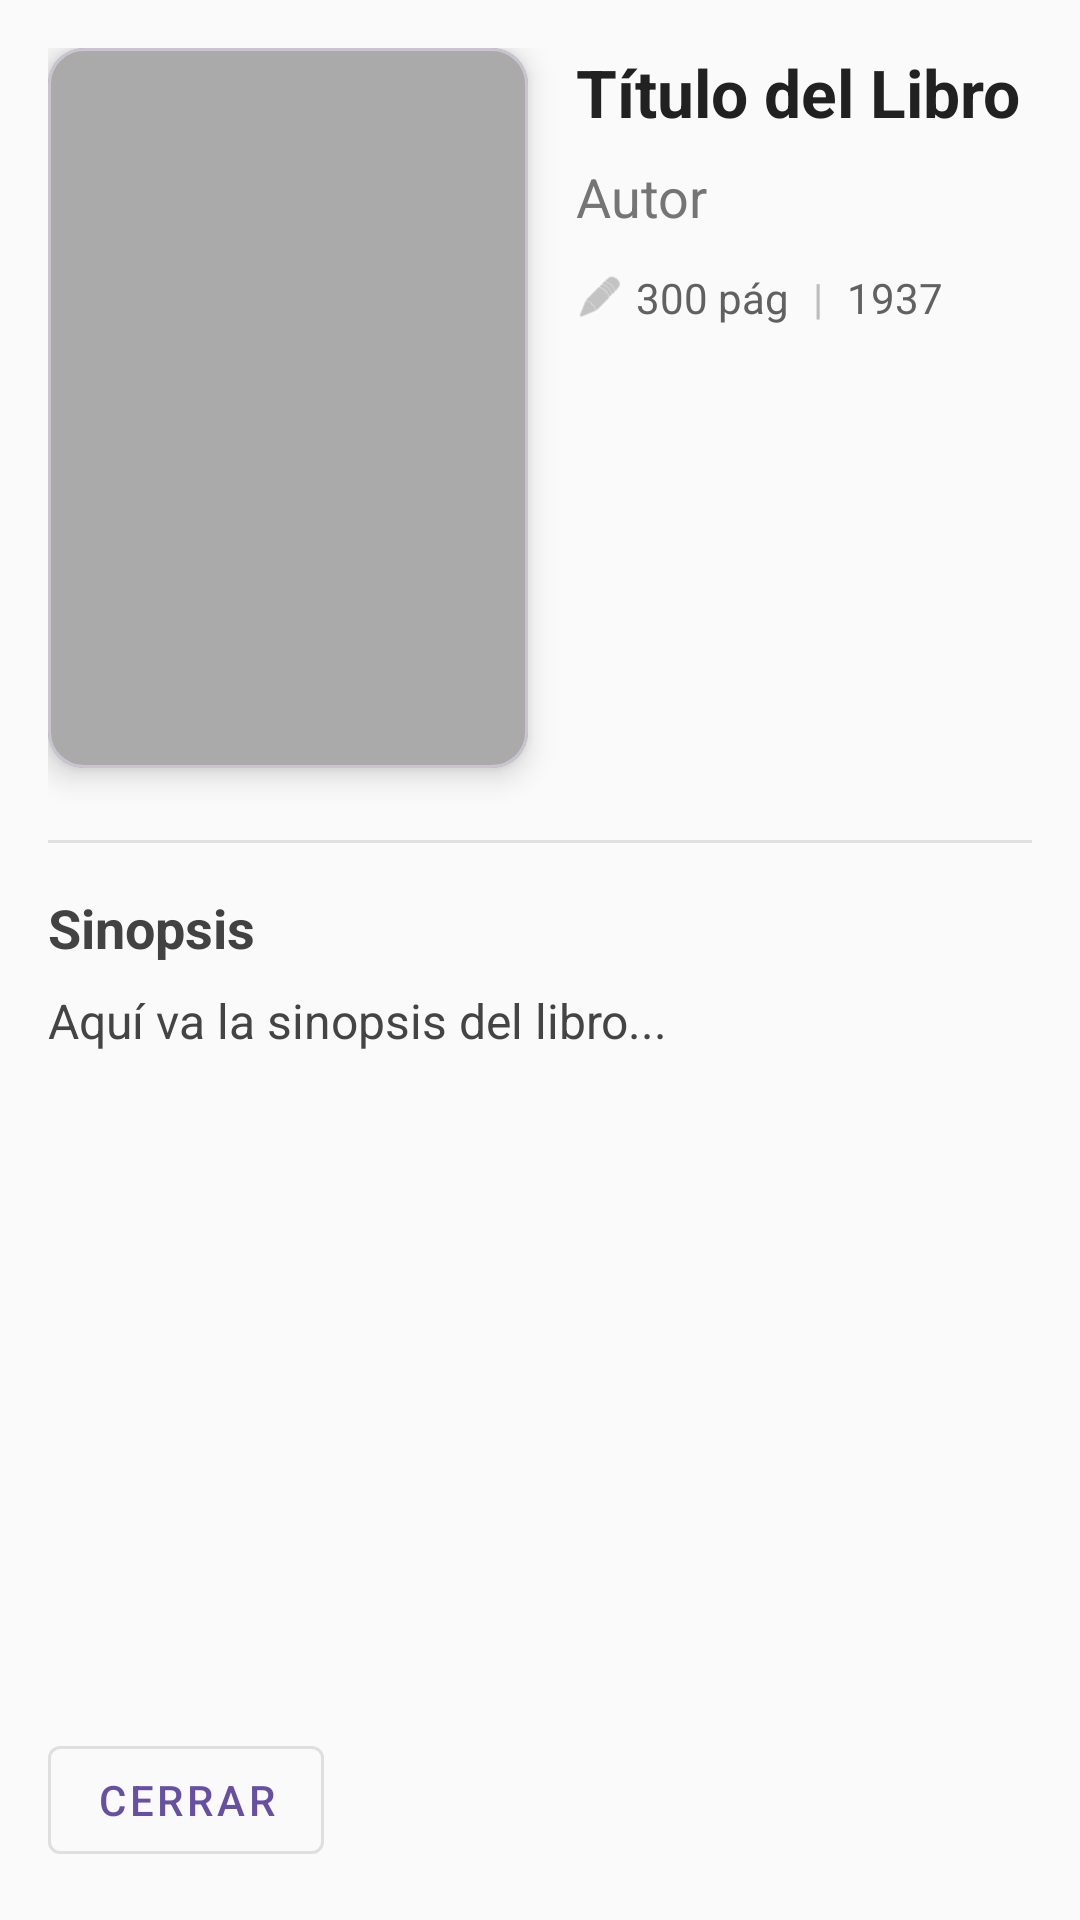

Where to tap for icons on this 1080 x 1920 app screen, as (x,y):
edit: (600,297)
